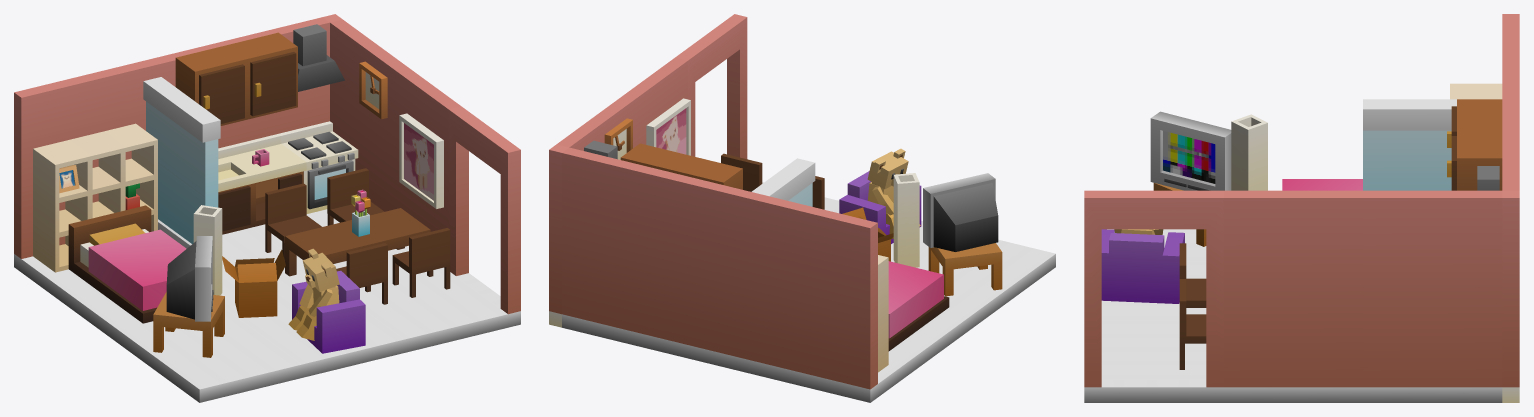
File: isometric_cute_low-poly_room.glb
3 views of the same model, side by side, from view 1: azimuth 30°, elevation 25°; view 2: azimuth 150°, elevation 25°; view 3: azimuth 270°, elevation 25° (orthographic). The views are drawn at different scales.
Visible parts, largest first — view 1: 4m_Floor.001, Shelf_Cube_3x3.001, 4m_Wall.001, 4m_Divider_Modern_Glass.001, Chair_Brown.001, 4m_Wall_Doorhole.001, 4m_Wall.004, 4m_Wall.005, Bed_Twin_Blanket.001, Table_Long.001, Bed_Twin.001, 4m_Wall.003 (+23 smaller); view 2: 4m_Wall.001, 4m_Wall.002, 4m_Wall.003, 4m_Floor.001, TV.001, 4m_Wall_Doorhole.001, 4m_Wall.005, Bed_Twin_Blanket.001, StandingLamp.001, Divider_BasicWall_Corner.001, Table_Square.001, WallPhoto_Square.001 (+13 smaller); view 3: 4m_Wall.004, 4m_Wall.005, 4m_Wall_Doorhole.001, 4m_Floor.001, 4m_Divider_Modern_Glass.001, TV.001, Couch.001, Divider_BasicWall_Corner.001, 4m_FloorTrim.001, StandingLamp.001, WallCabinet_2Layer_1Door.001, 4m_FloorTrim.002 (+10 smaller).
Boxes of the visible parts, bbox=[...] form: 4m_Floor.001: bbox=[21, 209, 507, 402]; Shelf_Cube_3x3.001: bbox=[33, 123, 157, 272]; 4m_Wall.001: bbox=[14, 67, 124, 258]; 4m_Divider_Modern_Glass.001: bbox=[143, 77, 220, 248]; Chair_Brown.001: bbox=[265, 168, 450, 304]; 4m_Wall_Doorhole.001: bbox=[448, 106, 520, 314]; 4m_Wall.004: bbox=[330, 19, 401, 211]; 4m_Wall.005: bbox=[389, 63, 460, 231]; Bed_Twin_Blanket.001: bbox=[88, 229, 186, 310]; Table_Long.001: bbox=[285, 208, 430, 276]; Bed_Twin.001: bbox=[68, 205, 156, 323]; 4m_Wall.003: bbox=[220, 17, 329, 146]; 4m_Wall.001: bbox=[767, 198, 877, 389]; 4m_Wall.002: bbox=[664, 172, 774, 364]; 4m_Wall.003: bbox=[562, 147, 671, 339]; 4m_Floor.001: bbox=[762, 182, 1055, 396]; TV.001: bbox=[923, 173, 998, 251]; 4m_Wall_Doorhole.001: bbox=[675, 14, 747, 158]; 4m_Wall.005: bbox=[616, 57, 687, 148]; Bed_Twin_Blanket.001: bbox=[888, 261, 943, 338]; StandingLamp.001: bbox=[893, 173, 919, 267]; Divider_BasicWall_Corner.001: bbox=[549, 144, 568, 314]; Table_Square.001: bbox=[928, 243, 1002, 296]; WallPhoto_Square.001: bbox=[646, 98, 690, 155]; 4m_Wall.004: bbox=[1363, 190, 1502, 387]; 4m_Wall.005: bbox=[1223, 190, 1362, 387]; 4m_Wall_Doorhole.001: bbox=[1084, 190, 1223, 387]; 4m_Floor.001: bbox=[1101, 229, 1206, 379]; 4m_Divider_Modern_Glass.001: bbox=[1363, 99, 1456, 190]; TV.001: bbox=[1150, 111, 1231, 190]; Couch.001: bbox=[1101, 229, 1184, 303]; Divider_BasicWall_Corner.001: bbox=[1502, 190, 1519, 387]; 4m_FloorTrim.001: bbox=[1084, 380, 1223, 402]; StandingLamp.001: bbox=[1231, 114, 1267, 190]; WallCabinet_2Layer_1Door.001: bbox=[1457, 128, 1502, 190]; 4m_FloorTrim.002: bbox=[1223, 387, 1362, 402].
Bounding box in the file's own units: 1.25 × 0.6589 × 1.25.
Materials: 5 (5 with a texture image).
